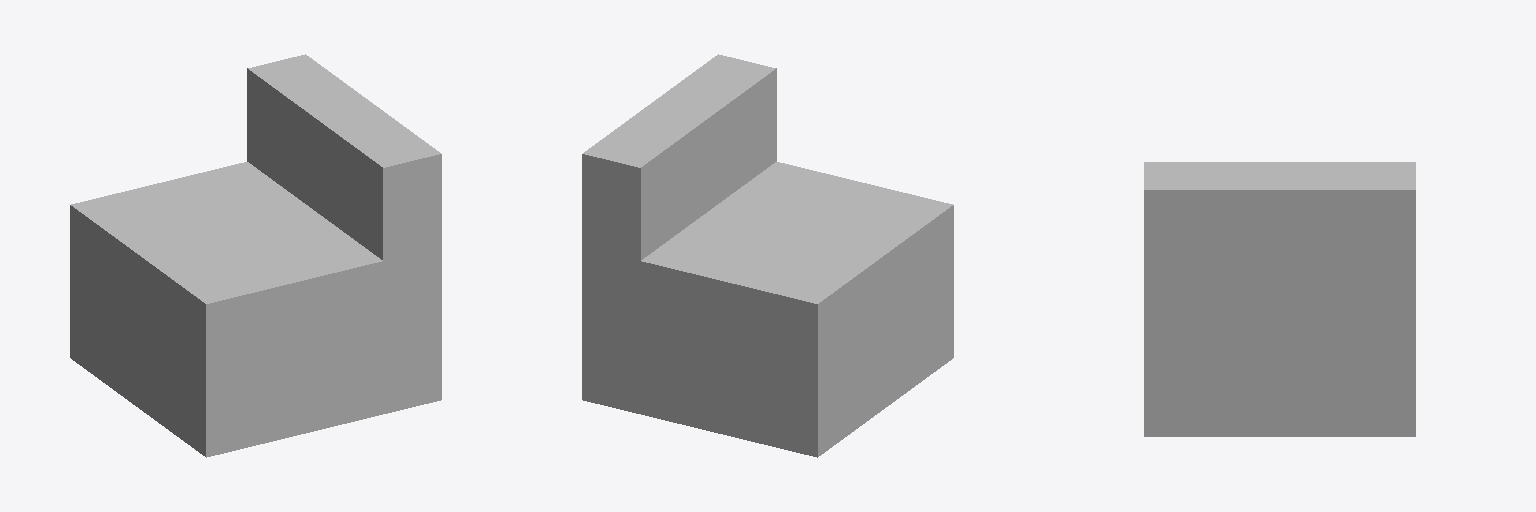
The model's file is l_short.obj.
3 views of the same model, side by side, from view 1: azimuth 30°, elevation 25°; view 2: azimuth 150°, elevation 25°; view 3: azimuth 270°, elevation 25° (orthographic).
Visible parts, largest first — view 1: peg_l_short; view 2: peg_l_short; view 3: peg_l_short.
Boxes of the visible parts, <box> form: peg_l_short: <box>70,54,441,457</box>; peg_l_short: <box>582,54,953,457</box>; peg_l_short: <box>1144,162,1415,436</box>.
Bounding box in the file's own units: 0.02 × 0.02 × 0.02.